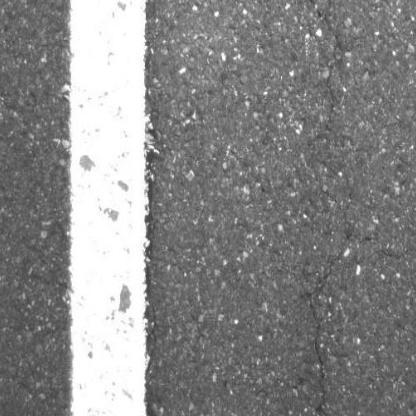Cracks: (303, 0, 358, 416)
